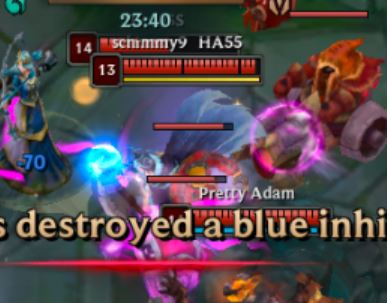bar: (64, 28, 246, 69), (157, 202, 337, 243), (86, 50, 267, 90)
